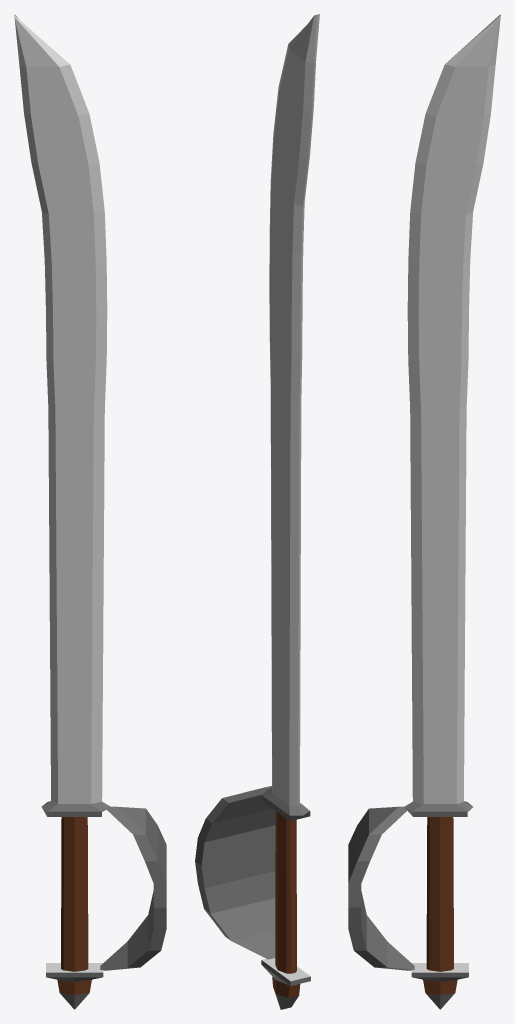
Rendered from sword4.fbx.
The picture shows the model from 3 angles, left to right: view 1: azimuth 90°, elevation 25°; view 2: azimuth 210°, elevation 25°; view 3: azimuth 270°, elevation 25°; orthographic projection. The views are drawn at different scales.
Visible parts, largest first — view 1: Меч4; view 2: Меч4; view 3: Меч4.
Boxes of the visible parts, x1=… form: Меч4: x1=14, y1=14, x2=166, y2=1009; Меч4: x1=195, y1=14, x2=319, y2=1009; Меч4: x1=348, y1=14, x2=500, y2=1009.
Bounding box in the file's own units: 100 × 1110 × 155.
